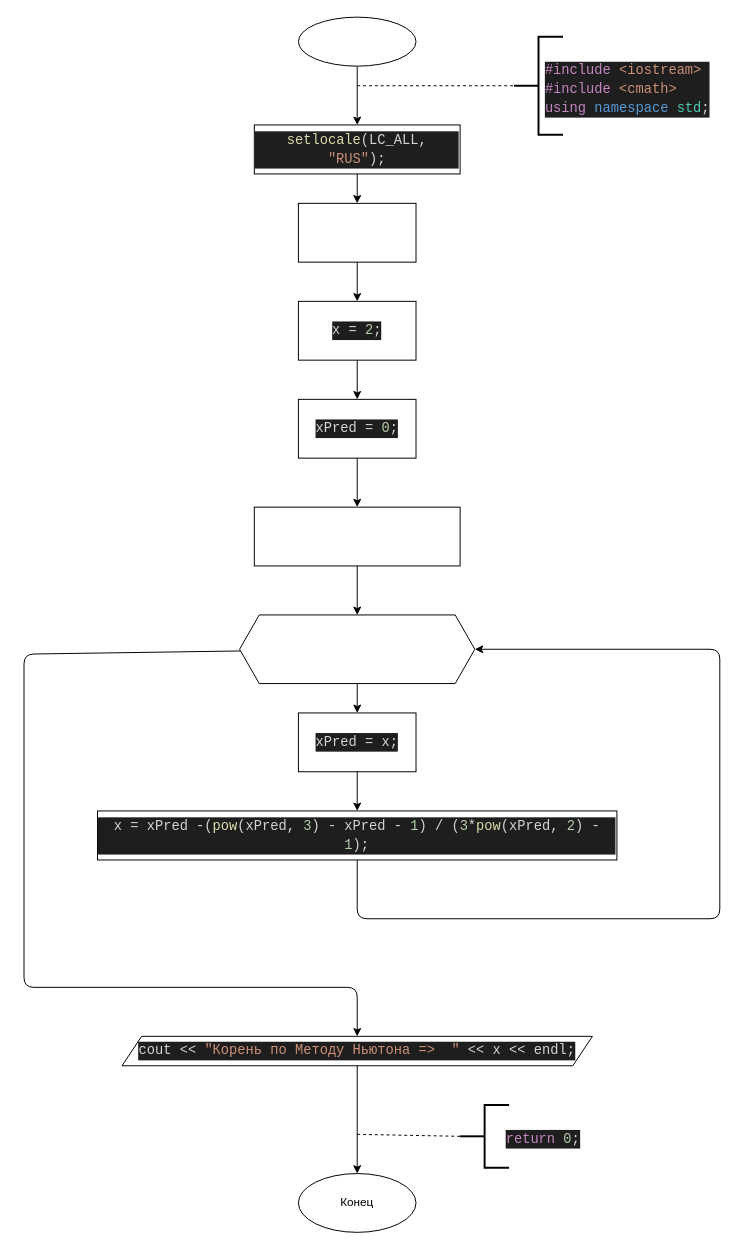
Some shapes in this 745 by 1250 pixel diagram are drawn without their labels. Here are the shapes that lost their labels. From the top down, the centre of each, then its label:
the point at 356,41: Начало
the point at 356,232: float x, xPred;
the point at 356,536: double eps = 0.000001 ;
the point at 357,649: while ( abs (x - xPred) > eps)
